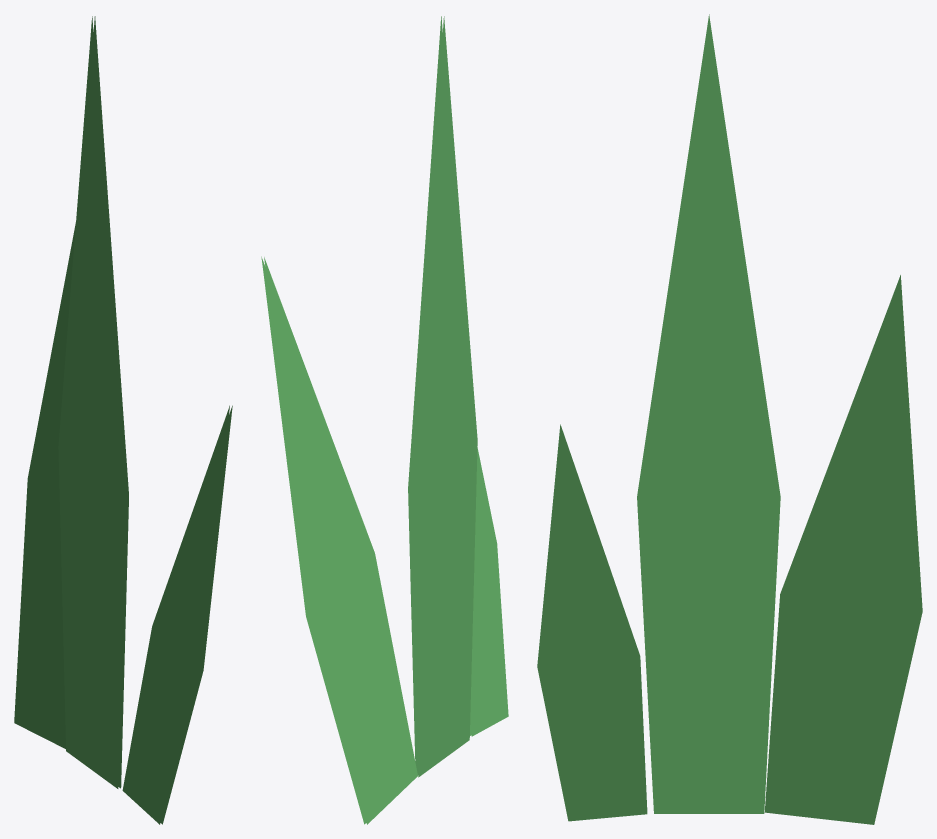
The model's file is GrassB.fbx.
3 renders of one model, left to right at view 1: azimuth 30°, elevation 25°; view 2: azimuth 150°, elevation 25°; view 3: azimuth 270°, elevation 25°, orthographic. The views are drawn at different scales.
Visible parts, largest first — view 1: GrassB; view 2: GrassB; view 3: GrassB.
Part boxes in pixels (x1,y1,x2,y2): GrassB: (14, 16, 232, 824); GrassB: (261, 16, 508, 824); GrassB: (537, 14, 922, 824).
Size of the model in its own units: 0.2017 by 1.56 by 0.6713.
